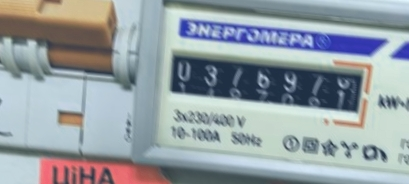0: (176, 59, 193, 83)
1: (335, 89, 346, 112)
3: (204, 65, 218, 87)
6: (256, 66, 273, 90)
7: (230, 64, 246, 89), (309, 72, 325, 96)
9: (282, 70, 298, 94)
screen: (157, 41, 377, 133)
